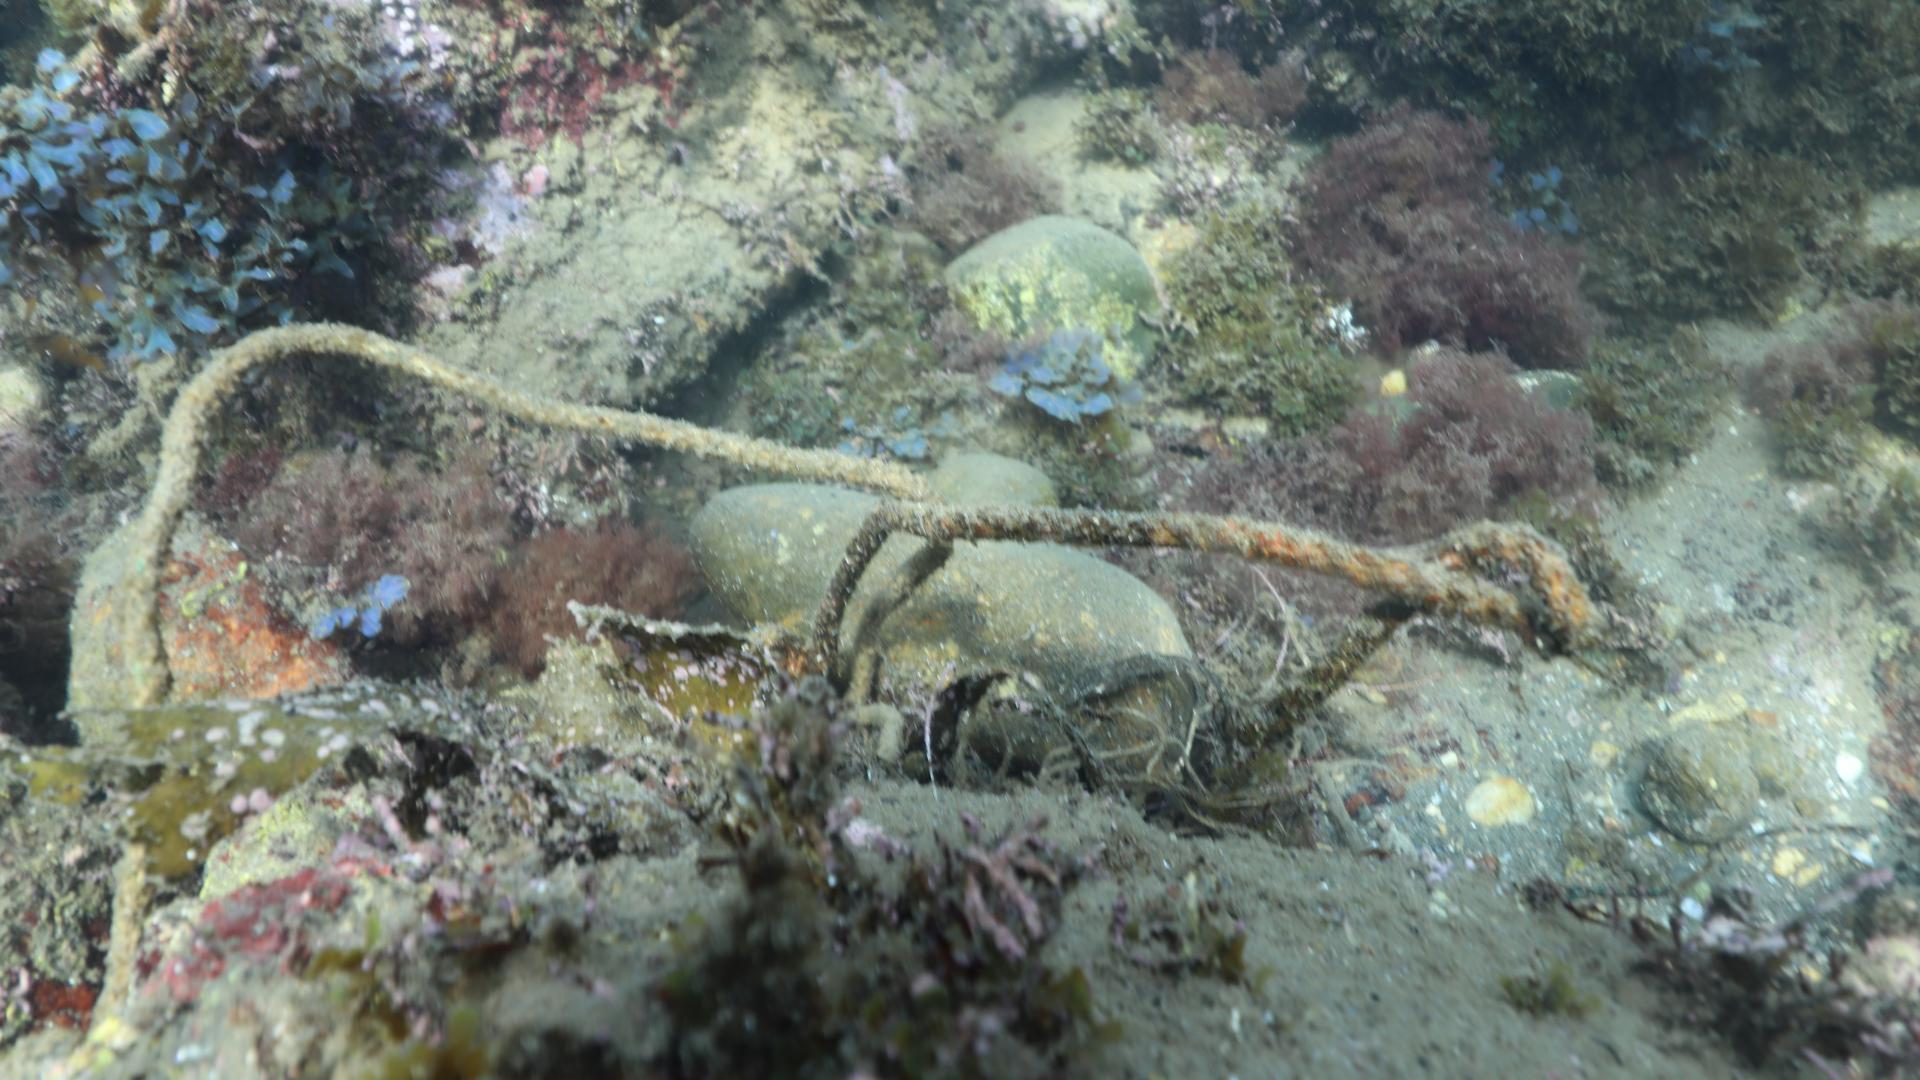rope: (123, 316, 957, 698), (808, 498, 1593, 749)
